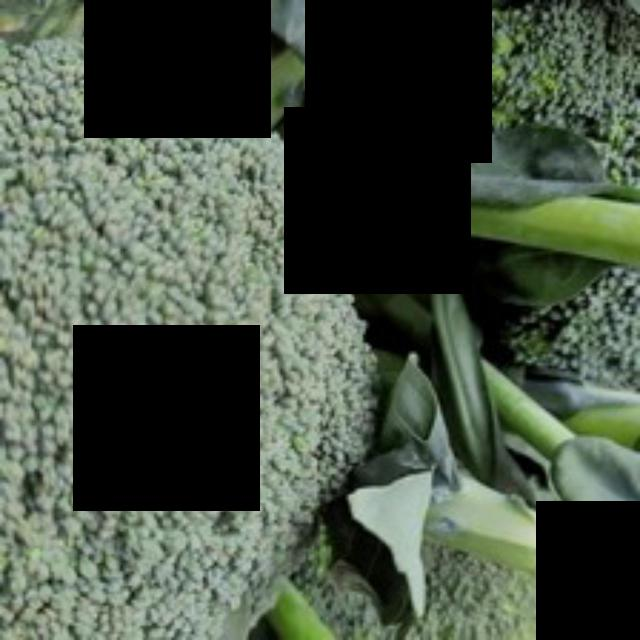broccoli: (0, 23, 374, 637)
